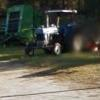Tractor: (14, 7, 82, 59)
